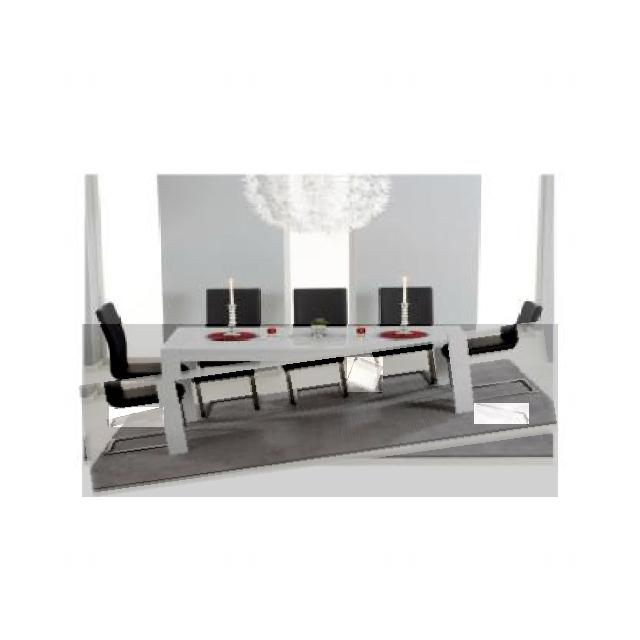floor: (82, 324, 558, 497), (347, 357, 383, 392), (475, 403, 529, 424), (109, 408, 164, 427)
